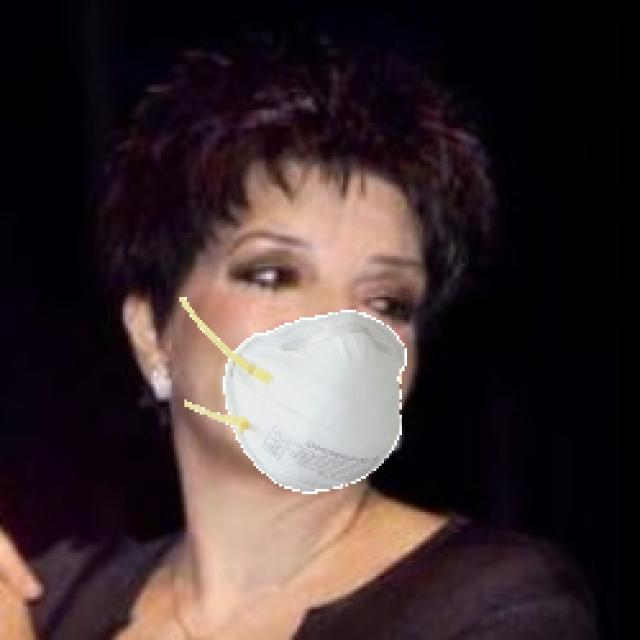mask: (165, 300, 435, 498)
